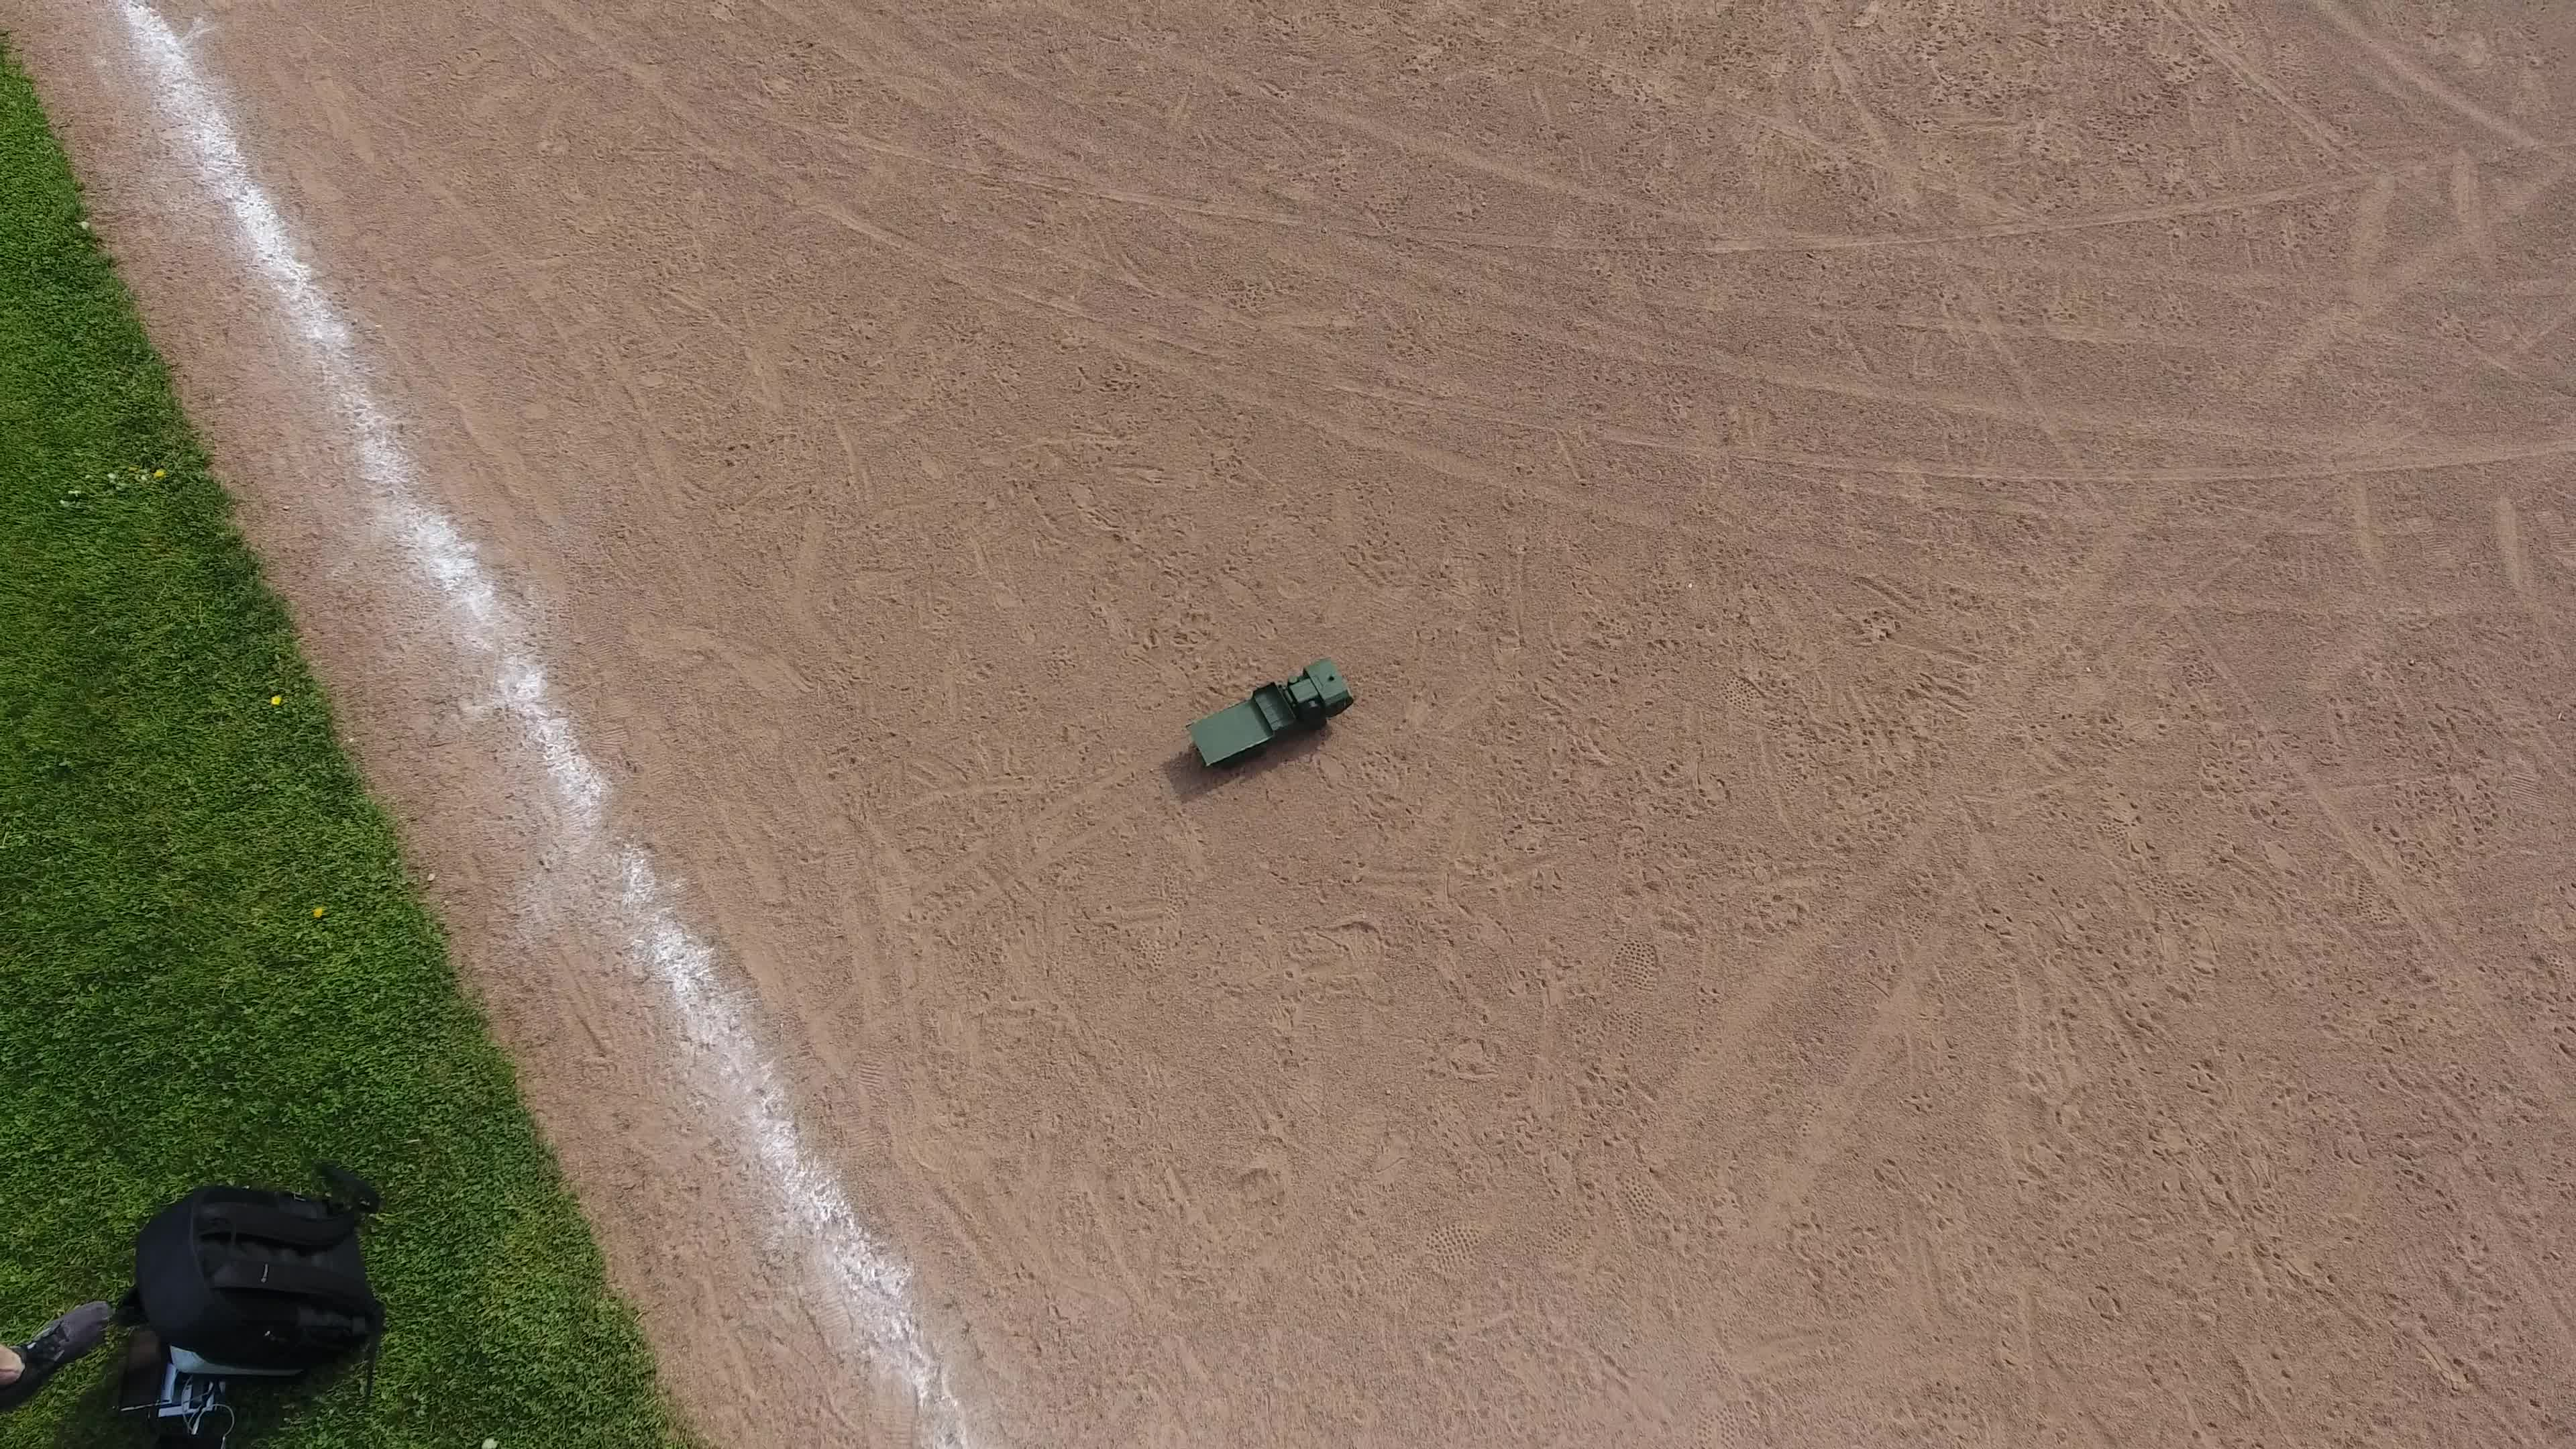transporter9: (1171, 648, 1361, 789)
